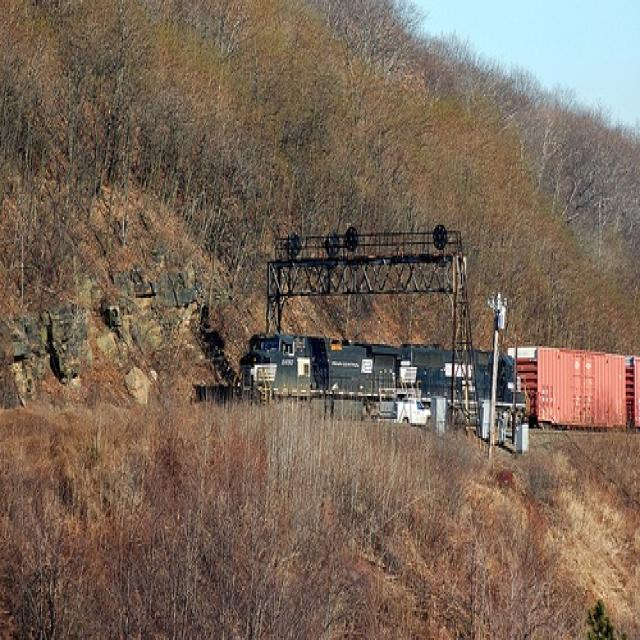car: (376, 386, 436, 429)
train: (237, 332, 639, 428)
